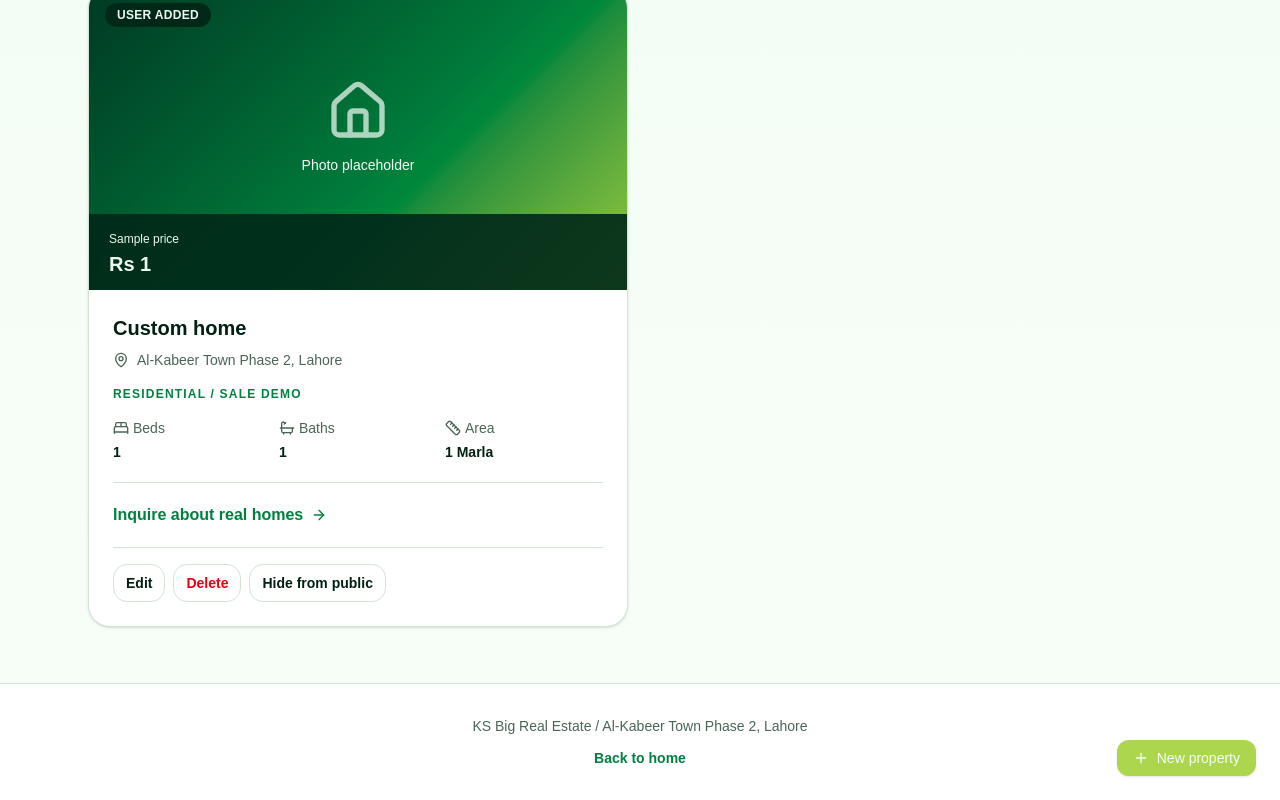
Test case: Sale listings › deletes a user-added property only after confirmation
The image size is (1280, 800).
(page scrolled)
Click the button with aria-label "Delete Custom home" at x=208, y=583, box [174,564,242,602]
(page scrolled)
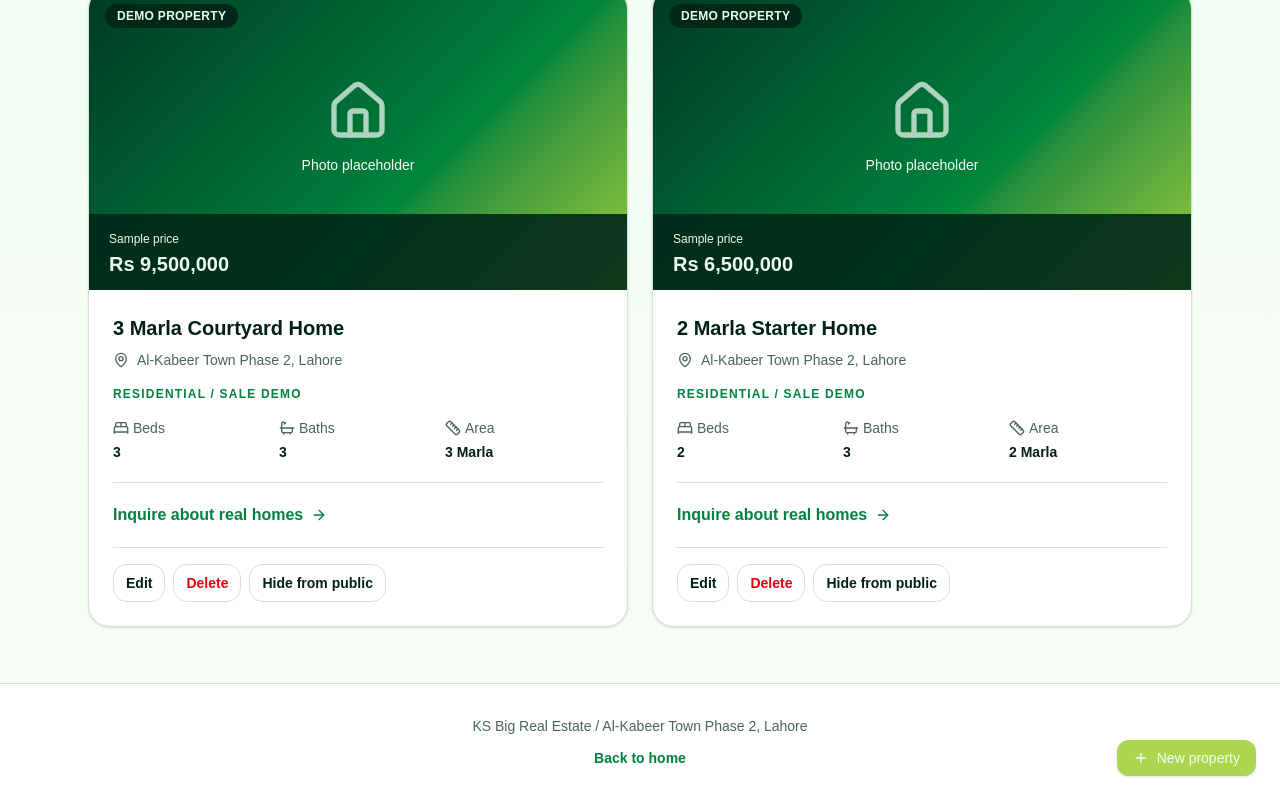
Result: the heading "Custom home" is gone
